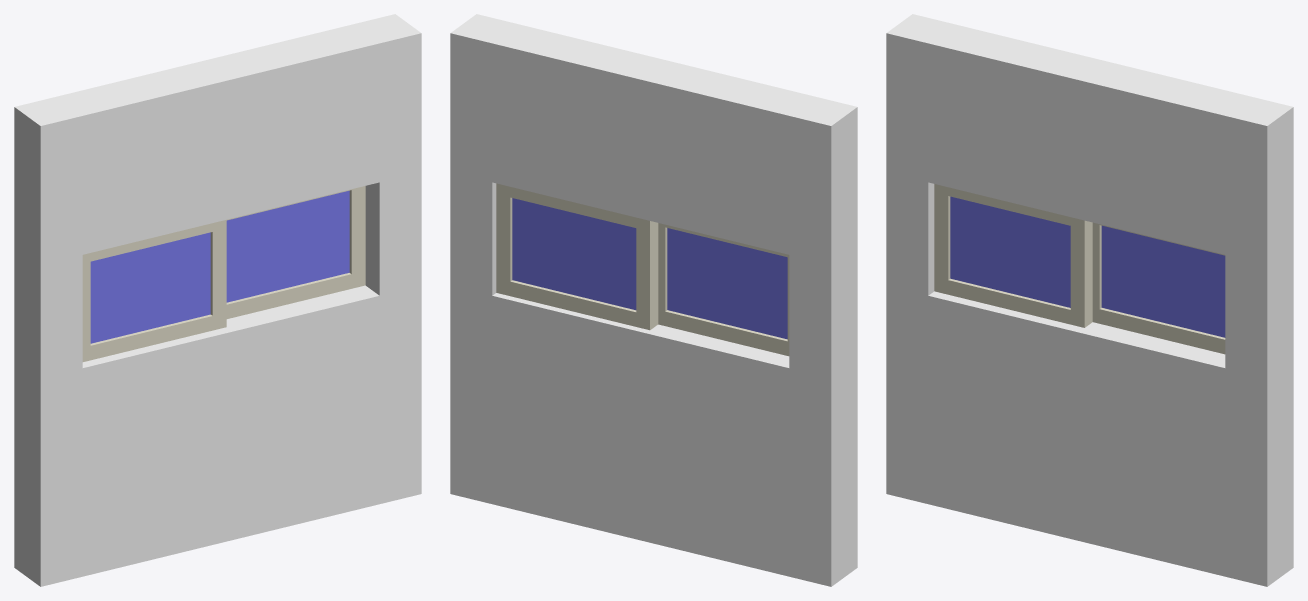
Rendered from Operating_room_Window6-1.fbx.
3 views of the same model, side by side, from view 1: azimuth 30°, elevation 25°; view 2: azimuth 150°, elevation 25°; view 3: azimuth 330°, elevation 25° (orthographic).
Parts seen in each view (by area): view 1: Operating room Window6-1.001, Operating room Window6-1.004, Operating room Window6-1.002, Operating room Window6-1, Operating room Window6-1.003; view 2: Operating room Window6-1.001, Operating room Window6-1.004, Operating room Window6-1.002, Operating room Window6-1.003, Operating room Window6-1; view 3: Operating room Window6-1.001, Operating room Window6-1.004, Operating room Window6-1.002, Operating room Window6-1, Operating room Window6-1.003.
Part boxes in pixels (x1,y1,x2,y2): Operating room Window6-1.001: (14,14,421,586); Operating room Window6-1.004: (226,190,349,302); Operating room Window6-1.002: (90,232,210,343); Operating room Window6-1: (82,220,226,361); Operating room Window6-1.003: (226,186,365,318); Operating room Window6-1.001: (450,14,857,586); Operating room Window6-1.004: (512,198,636,310); Operating room Window6-1.002: (667,228,787,339); Operating room Window6-1.003: (496,183,658,330); Operating room Window6-1: (658,223,789,356); Operating room Window6-1.001: (886,14,1293,586); Operating room Window6-1.004: (1101,225,1225,337); Operating room Window6-1.002: (950,196,1070,307); Operating room Window6-1: (934,184,1092,327); Operating room Window6-1.003: (1092,222,1225,354).
Size of the model in its own units: 10.9 by 12.6 by 1.3.
